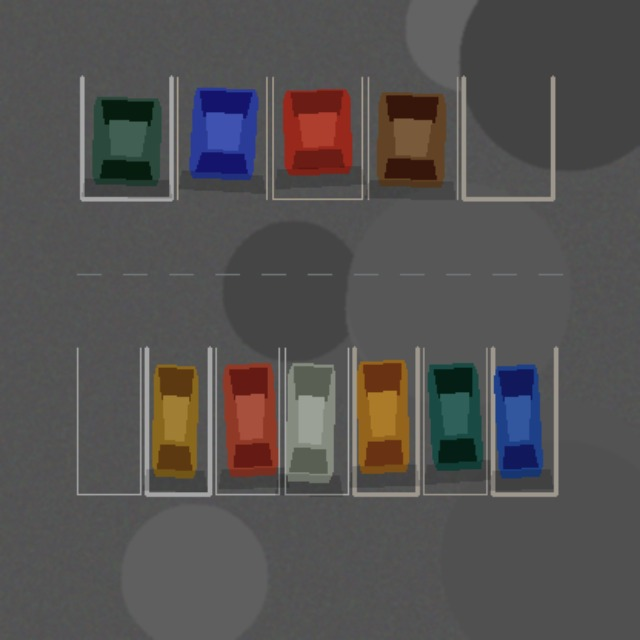space-empty: (463, 77, 552, 198), (77, 348, 140, 494)
space-occupied: (272, 77, 362, 198), (82, 77, 171, 198), (177, 77, 266, 198), (368, 77, 457, 198), (146, 348, 209, 494), (215, 348, 278, 494), (285, 348, 348, 494), (354, 348, 417, 494), (423, 348, 486, 494), (492, 348, 555, 494)
